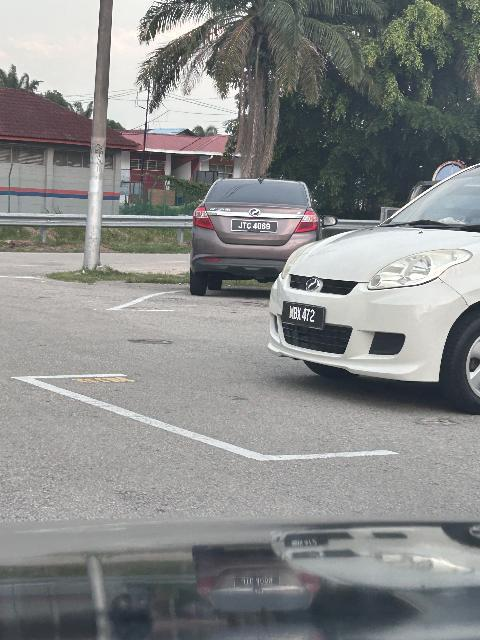JTC4069: (230, 220, 283, 235)
License_Plate: (285, 298, 326, 332), (230, 220, 283, 235)
WBX472: (285, 298, 326, 332)
car: (267, 156, 480, 416), (190, 176, 340, 297)
